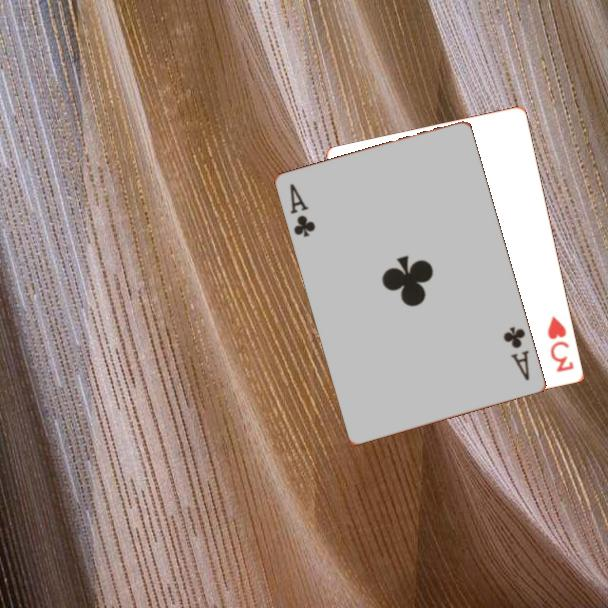c01: (500, 323, 533, 384), (286, 180, 319, 240)
h03: (544, 313, 577, 375)
